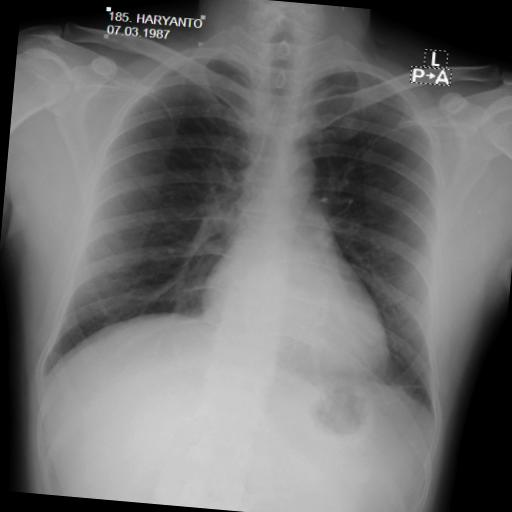kardiomegali: (30, 15, 479, 440)
